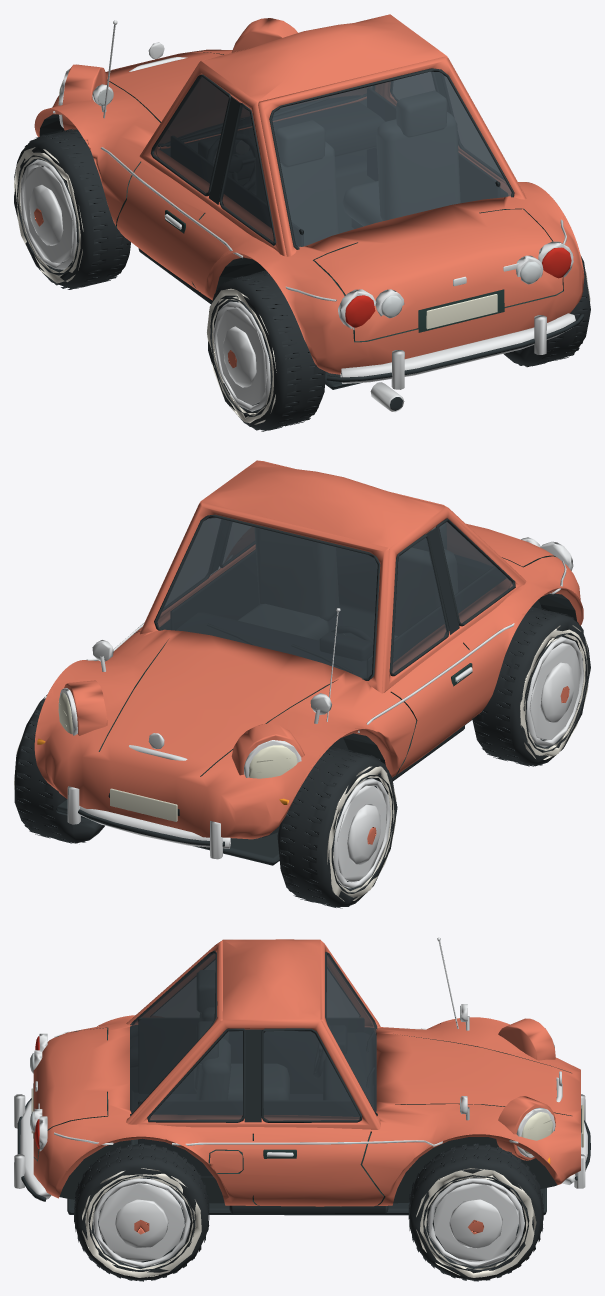
File: beetle_lod2.fbx
The picture shows the model from 3 angles, top to bottom: view 1: azimuth 30°, elevation 25°; view 2: azimuth 150°, elevation 25°; view 3: azimuth 270°, elevation 25°; orthographic projection. The views are drawn at different scales.
Visible parts, largest first — view 1: Body, Wheel_RL_Mesh, Wheel_FL_Mesh, Wheel_RR_Mesh; view 2: Body, Wheel_FL_Mesh, Wheel_RL_Mesh, Wheel_FR_Mesh; view 3: Body, Wheel_RR_Mesh, Wheel_FR_Mesh.
Boxes of the visible parts, left/top/right/bottom form: Body: left=34, top=14, right=584, bottom=412; Wheel_RL_Mesh: left=207, top=270, right=325, bottom=431; Wheel_FL_Mesh: left=14, top=128, right=130, bottom=289; Wheel_RR_Mesh: left=503, top=256, right=590, bottom=367; Body: left=34, top=460, right=583, bottom=865; Wheel_FL_Mesh: left=277, top=747, right=397, bottom=908; Wheel_RL_Mesh: left=472, top=606, right=590, bottom=766; Wheel_FR_Mesh: left=14, top=694, right=104, bottom=843; Body: left=14, top=937, right=590, bottom=1215; Wheel_RR_Mesh: left=74, top=1143, right=209, bottom=1281; Wheel_FR_Mesh: left=408, top=1143, right=543, bottom=1281.
Size of the model in its own units: 197 by 170 by 342.
